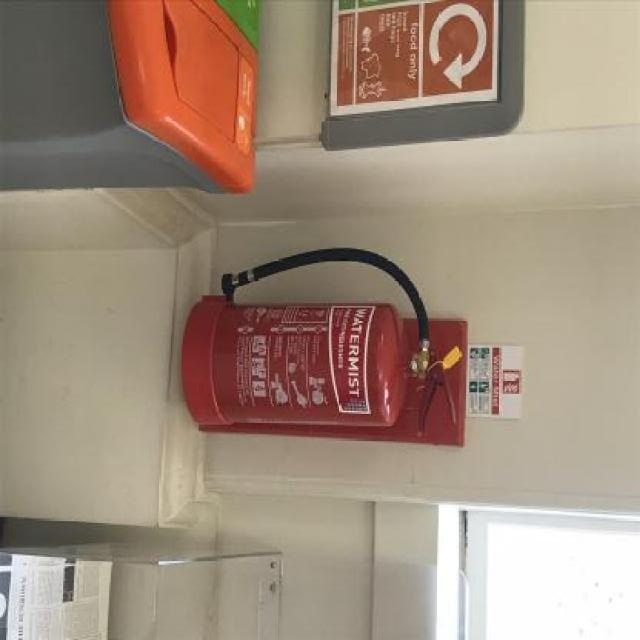fire extinguisher: (180, 246, 458, 437)
